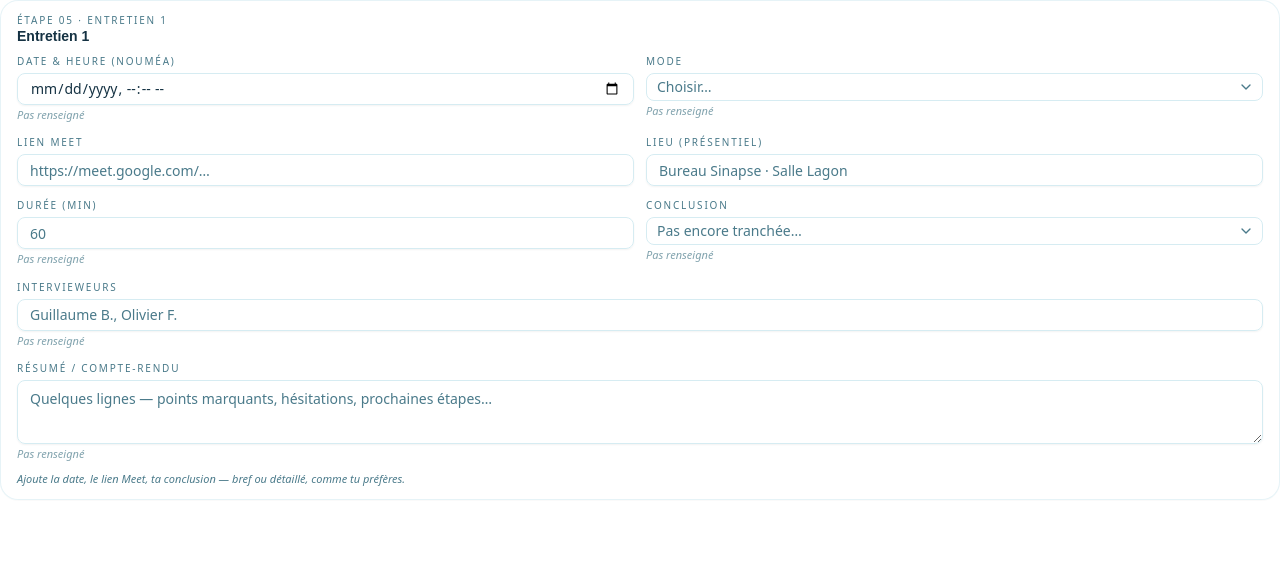
Test: <EntretienFiche> › rejects malformed local input via Zod and surfaces an error message
The width and height of the screenshot is (1280, 567).
Type into the meet link with a non-URL string so client-side schema rejects.
Type "not a url" into the field with placeholder "https://meet.google.com/…".
click(326, 170); type("not a url")  # box [17, 154, 634, 186]
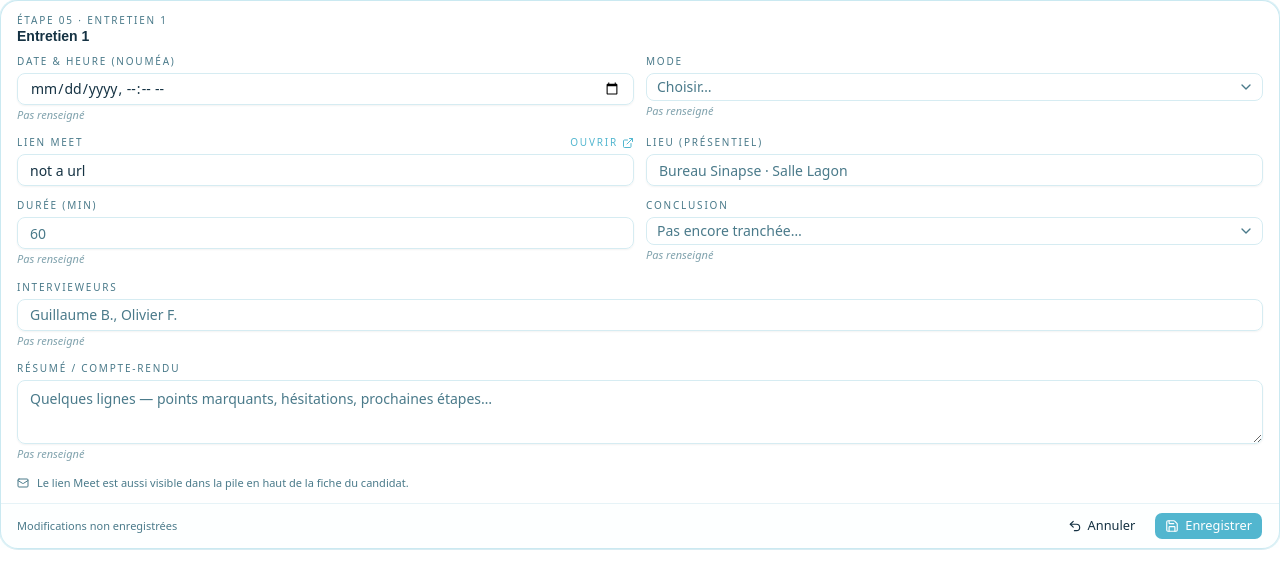
Click the button "Enregistrer".
click(1209, 526)  # box [1154, 512, 1263, 540]
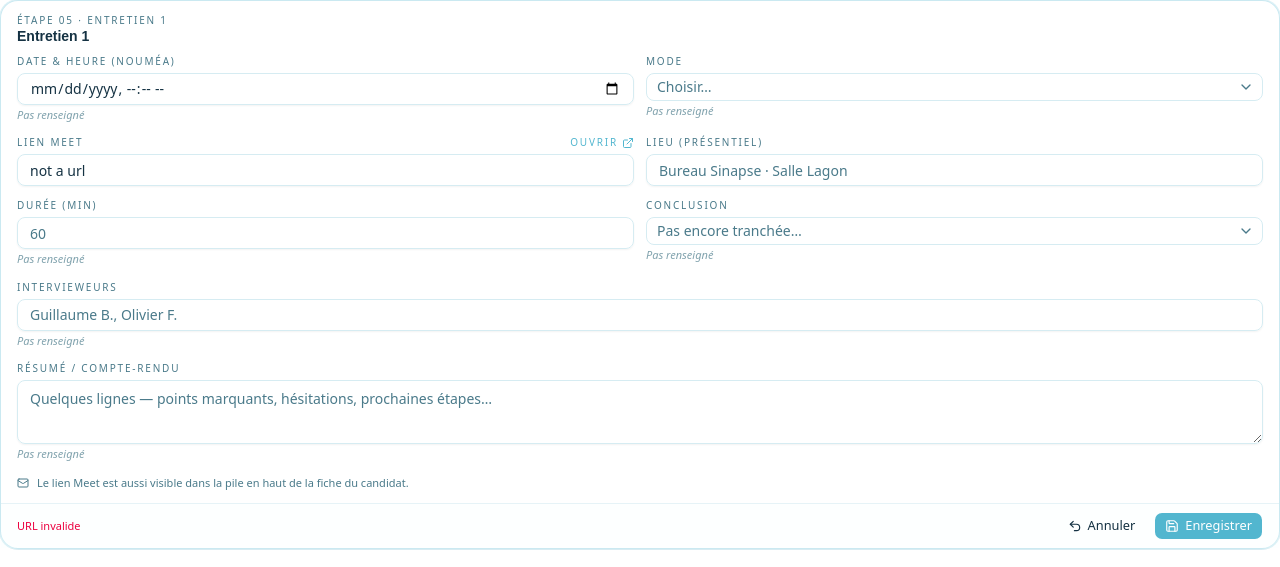
Result: the text "URL invalide" is shown at [17, 518, 80, 534]
